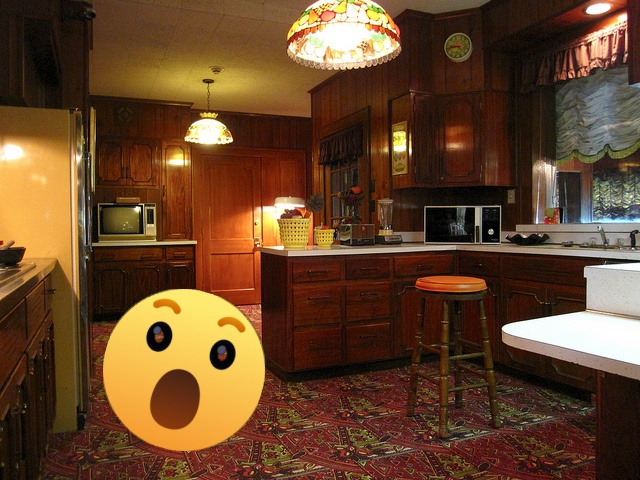wow: (103, 289, 265, 451)
